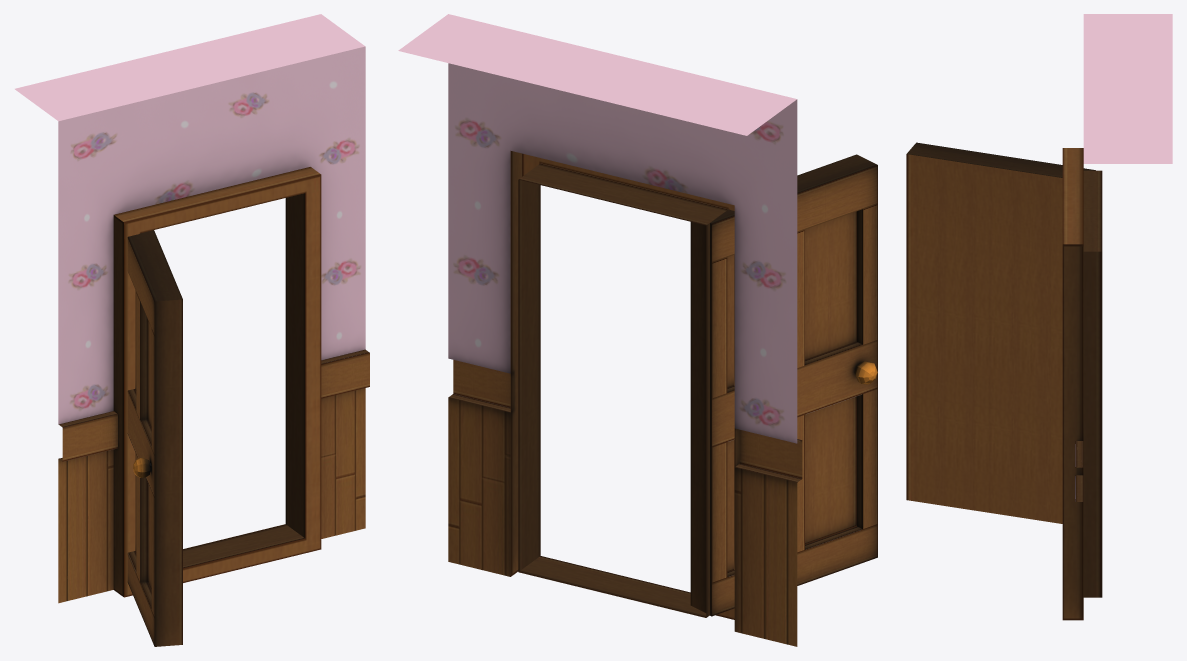
File: DoorOpen.fbx
3 views of the same model, side by side, from view 1: azimuth 30°, elevation 25°; view 2: azimuth 150°, elevation 25°; view 3: azimuth 270°, elevation 25° (orthographic). The views are drawn at different scales.
Visible parts, largest first — view 1: DoorWall, Door; view 2: DoorWall, Door; view 3: Door, DoorWall.
Boxes of the visible parts, <box> form: DoorWall: <box>15,14,369,603</box>; Door: <box>127,230,182,646</box>; DoorWall: <box>398,14,802,646</box>; Door: <box>690,154,877,616</box>; Door: <box>906,142,1095,523</box>; DoorWall: <box>1062,14,1172,620</box>.
Size of the model in its own units: 200 by 300 by 150.
